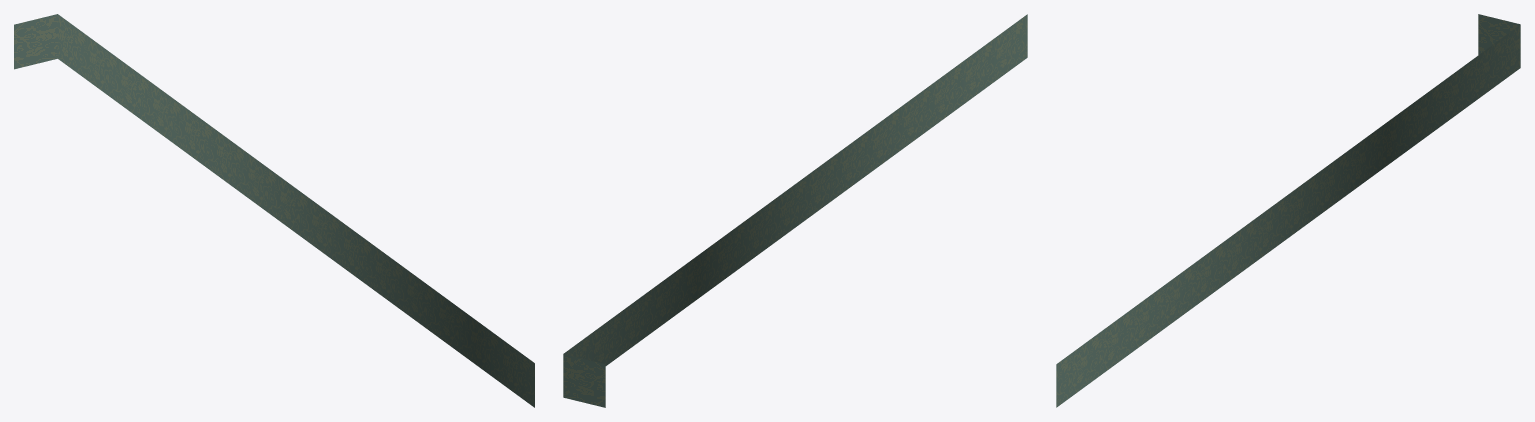
Rendered from kd_stage_135ded_4_5_bounded.glb.
3 renders of one model, left to right at view 1: azimuth 30°, elevation 25°; view 2: azimuth 150°, elevation 25°; view 3: azimuth 330°, elevation 25°, orthographic. The views are drawn at different scales.
Visible parts, largest first — view 1: kd_stage_135ded_4_5_bounded; view 2: kd_stage_135ded_4_5_bounded; view 3: kd_stage_135ded_4_5_bounded.
Boxes of the visible parts, x1,y1,x2,y2 form: kd_stage_135ded_4_5_bounded: [14, 14, 534, 407]; kd_stage_135ded_4_5_bounded: [563, 14, 1027, 407]; kd_stage_135ded_4_5_bounded: [1056, 14, 1520, 407].
Size of the model in its own units: 0.03 by 0.0294 by 0.5674.
Materials: 1 (1 with a texture image).
